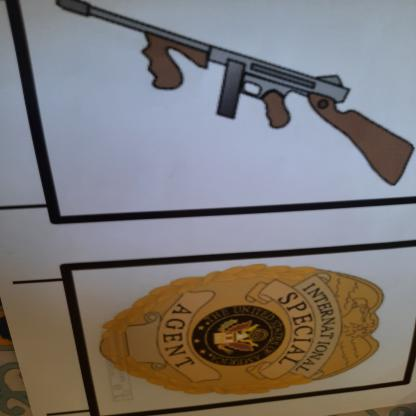Bootlegger: (42, 1, 416, 196)
G-man: (82, 260, 413, 404)
